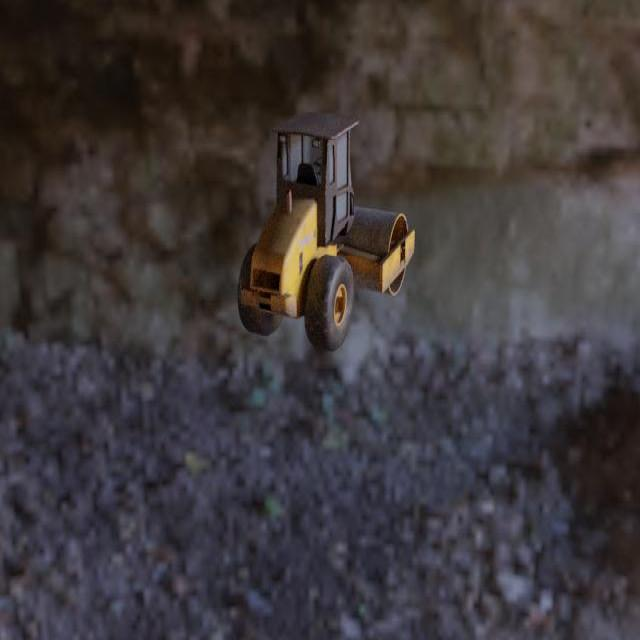Roller: (237, 111, 414, 352)
